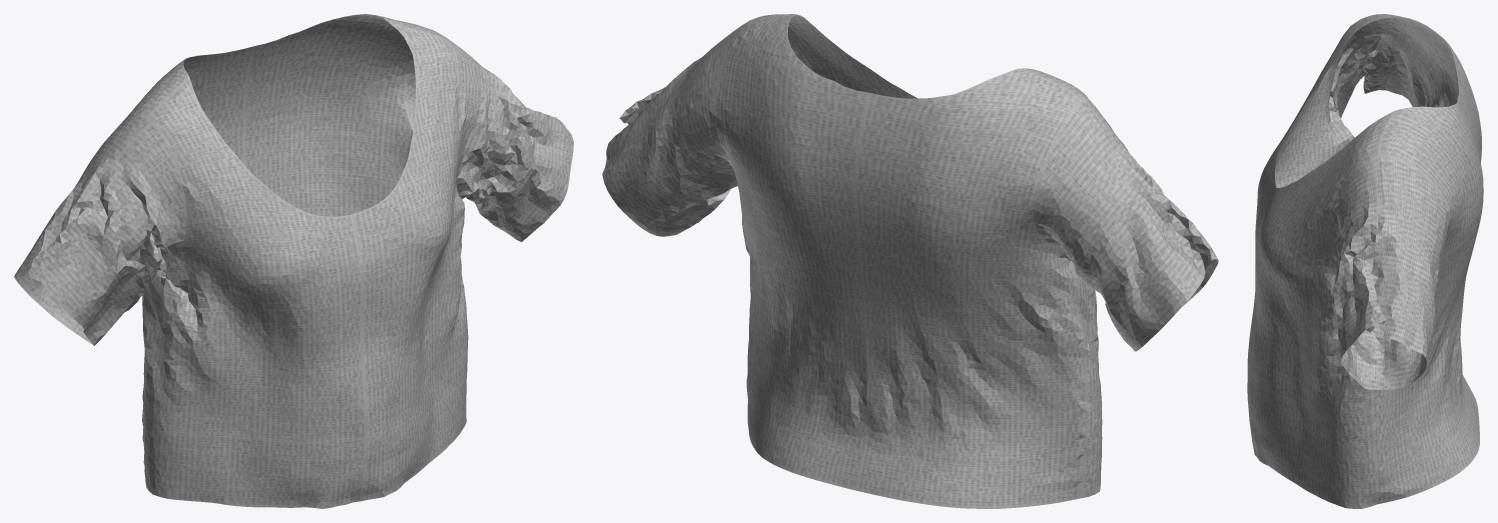
File: debug3_sim.obj
3 views of the same model, side by side, from view 1: azimuth 30°, elevation 25°; view 2: azimuth 150°, elevation 25°; view 3: azimuth 270°, elevation 25° (orthographic). The views are drawn at different scales.
Size of the model in its own units: 71.68 by 50.5 by 28.24.
Materials: 1 (1 with a texture image).
